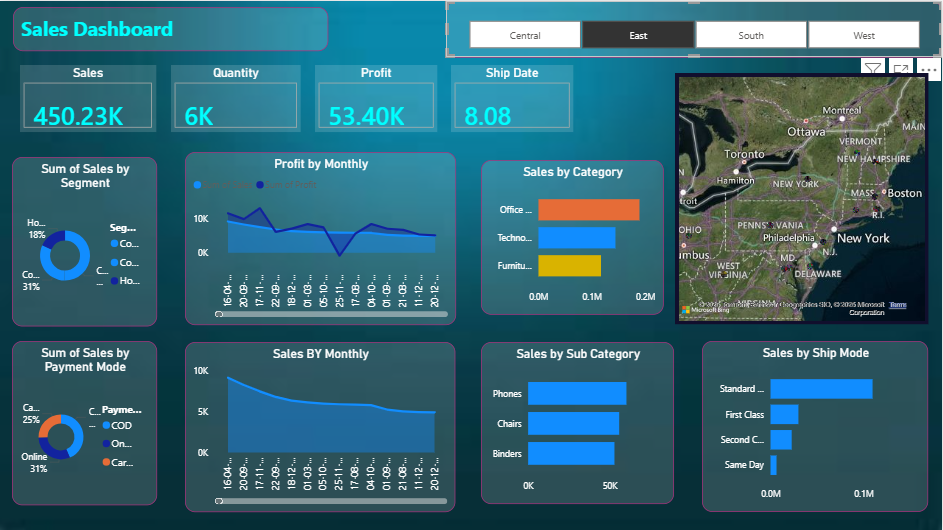

The dashboard page shown, as its layout file describes it:
{"tool":"powerbi","page":{"name":"Sales Dashboard","canvas":[1280,720],"ordinal":0},"visuals":[{"type":"clusteredBarChart","title":"Sales by Category","fields":{"Category":["SuperStore_Sales_Dataset.Category"],"Y":["Sum(SuperStore_Sales_Dataset.Sales)"]},"box":[654.8,215.4,248,209.8],"z":0},{"type":"clusteredBarChart","title":"Sales by Sub Category","fields":{"Category":["SuperStore_Sales_Dataset.Sub-Category"],"Y":["Sum(SuperStore_Sales_Dataset.Sales)"]},"box":[654.8,463.5,262.2,219.7],"z":1000},{"type":"clusteredBarChart","title":"Sales by Ship Mode","fields":{"Category":["SuperStore_Sales_Dataset.Ship Mode"],"Y":["Sum(SuperStore_Sales_Dataset.Sales)"]},"box":[954.1,461.9,307.4,231.8],"z":2000},{"type":"stackedAreaChart","title":"Profit  by Monthly","fields":{"Category":["SuperStore_Sales_Dataset.Order Date"],"Y":["Sum(SuperStore_Sales_Dataset.Sales)","Sum(SuperStore_Sales_Dataset.Profit)"]},"box":[252,204.9,367.9,235.2],"z":3000},{"type":"stackedAreaChart","title":"Sales BY Monthly","fields":{"Category":["SuperStore_Sales_Dataset.Order Date"],"Y":["Sum(SuperStore_Sales_Dataset.Sales)"]},"box":[252.3,463.5,367.1,231],"z":4000},{"type":"donutChart","fields":{"Category":["SuperStore_Sales_Dataset.Segment"],"Y":["Sum(SuperStore_Sales_Dataset.Sales)"]},"box":[17,211.2,197,229.6],"z":5000},{"type":"donutChart","fields":{"Category":["SuperStore_Sales_Dataset.Payment Mode"],"Y":["Sum(SuperStore_Sales_Dataset.Sales)"]},"box":[17,462,197,222.5],"z":6000},{"type":"slicer","fields":{"Values":["SuperStore_Sales_Dataset.Region"]},"box":[606.6,0,673.2,76.5],"z":7000},{"type":"textbox","box":[18.5,8.4,428.3,60.5],"z":8000},{"type":"map","fields":{"Category":["SuperStore_Sales_Dataset.State"],"Series":["SuperStore_Sales_Dataset.Sales"]},"box":[917.2,97.4,344.4,341],"z":9000},{"type":"cardVisual","title":"Sales","fields":{"Data":["Sum(SuperStore_Sales_Dataset.Sales)"]},"box":[28.6,87.3,184.8,90.7],"z":10000},{"type":"cardVisual","title":"Quantity","fields":{"Data":["Sum(SuperStore_Sales_Dataset.Quantity)"]},"box":[233.5,87.3,176.4,90.7],"z":10001},{"type":"cardVisual","title":"Profit","fields":{"Data":["Sum(SuperStore_Sales_Dataset.Profit)"]},"box":[428.3,87.3,166.3,90.7],"z":10002},{"type":"cardVisual","title":"Ship Date","fields":{"Data":["Avg(SuperStore_Sales_Dataset.AvgDeliverey)"]},"box":[613.1,87.3,166.3,90.7],"z":10003}]}

Visuals, with their boxes in screenshot pixels (x1, y1, x2, y2), scaled from the page's 1280x720 canvas onto the 943x530 screenshot:
"Sales by Category" clusteredBarChart: x1=482, y1=159, x2=665, y2=313
"Sales by Sub Category" clusteredBarChart: x1=482, y1=341, x2=676, y2=503
"Sales by Ship Mode" clusteredBarChart: x1=703, y1=340, x2=929, y2=511
"Profit  by Monthly" stackedAreaChart: x1=186, y1=151, x2=457, y2=324
"Sales BY Monthly" stackedAreaChart: x1=186, y1=341, x2=456, y2=511
donutChart - SuperStore_Sales_Dataset.Segment x Sum(SuperStore_Sales_Dataset.Sales): x1=13, y1=155, x2=158, y2=324
donutChart - SuperStore_Sales_Dataset.Payment Mode x Sum(SuperStore_Sales_Dataset.Sales): x1=13, y1=340, x2=158, y2=504
slicer - SuperStore_Sales_Dataset.Region: x1=447, y1=0, x2=942, y2=56
textbox: x1=14, y1=6, x2=329, y2=51
map - SuperStore_Sales_Dataset.State x SuperStore_Sales_Dataset.Sales: x1=676, y1=72, x2=929, y2=323
"Sales" cardVisual: x1=21, y1=64, x2=157, y2=131
"Quantity" cardVisual: x1=172, y1=64, x2=302, y2=131
"Profit" cardVisual: x1=316, y1=64, x2=438, y2=131
"Ship Date" cardVisual: x1=452, y1=64, x2=574, y2=131
